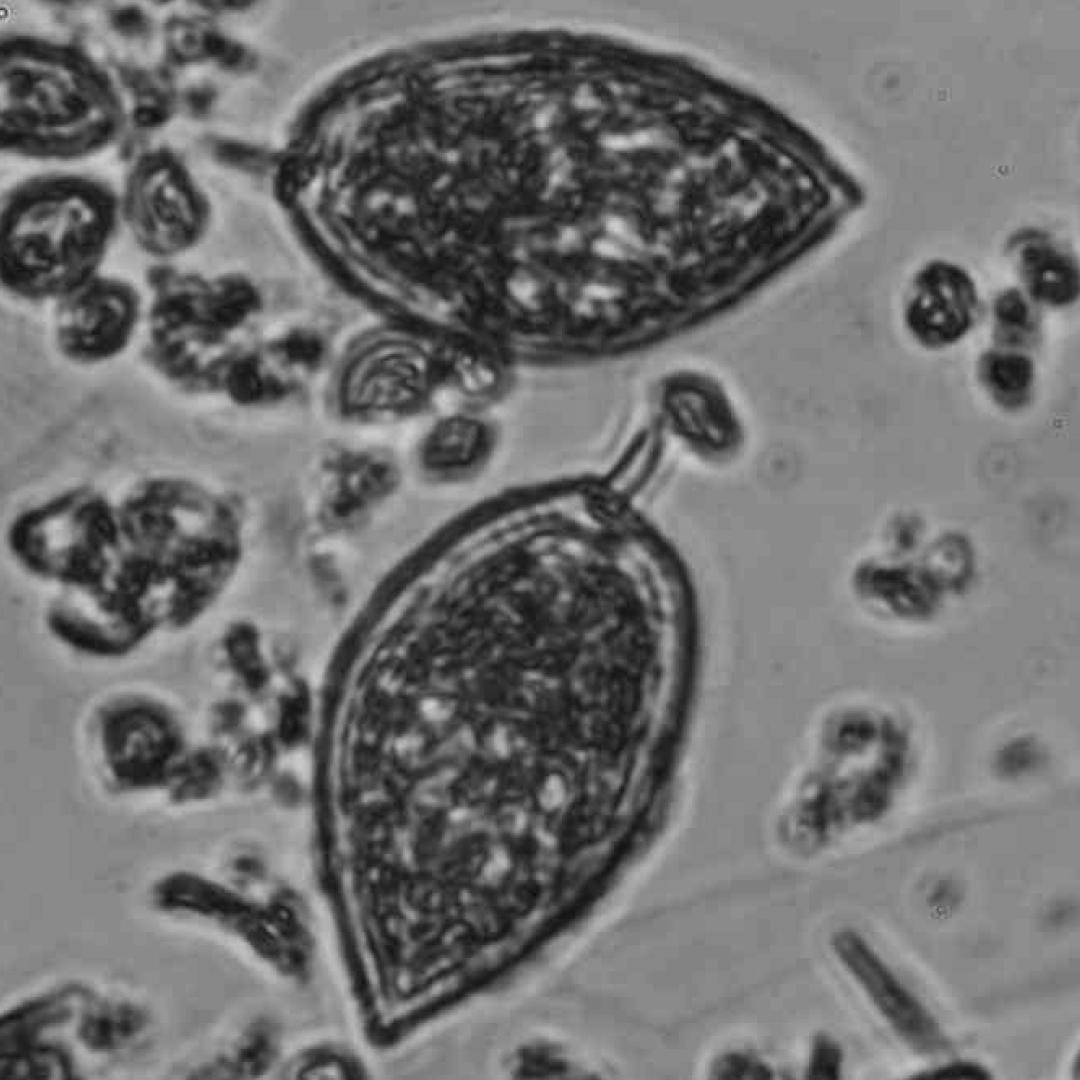prorocentrum_micans: (310, 414, 699, 1048), (202, 28, 861, 360)
